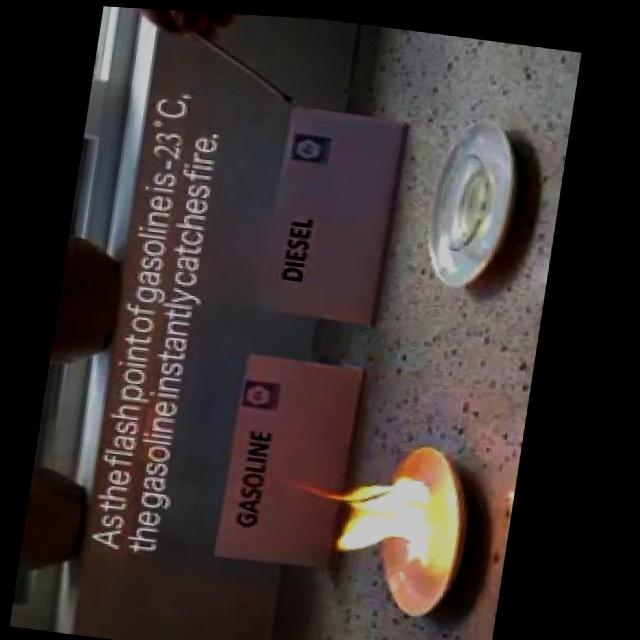helmet: (294, 453, 459, 567)
